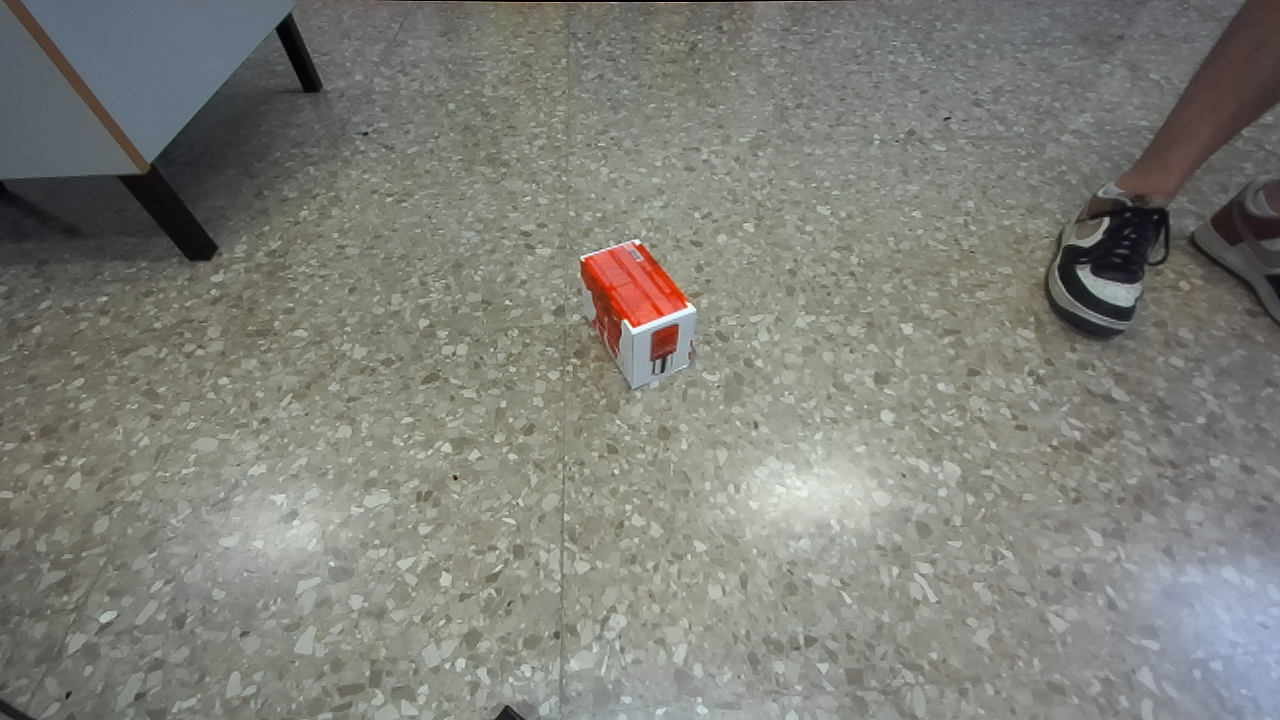caja_potencia: (581, 240, 695, 388)
